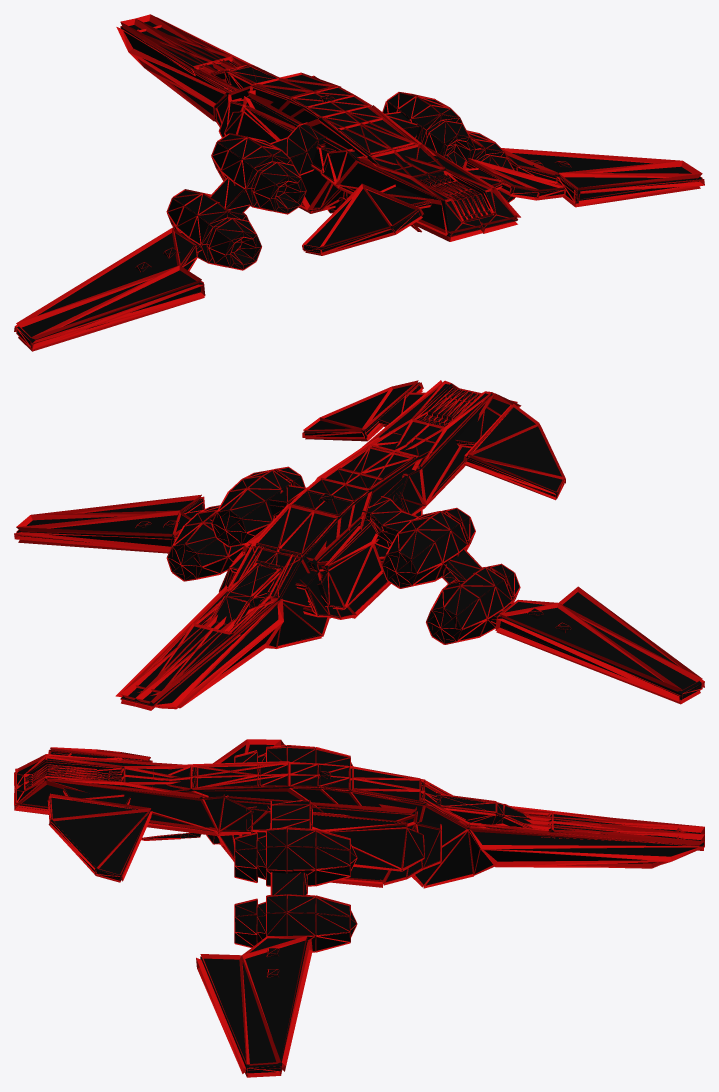
The model's file is greyhoundWire.obj.
3 views of the same model, one above another, from view 1: azimuth 30°, elevation 25°; view 2: azimuth 150°, elevation 25°; view 3: azimuth 270°, elevation 25° (orthographic).
Visible parts, largest first — view 1: Z-5000_Greyhound_Z-5000_Greyhound_Material.069, Z-5000_Greyhound_Z-5000_Greyhound_Glow; view 2: Z-5000_Greyhound_Z-5000_Greyhound_Material.069, Z-5000_Greyhound_Z-5000_Greyhound_Glow; view 3: Z-5000_Greyhound_Z-5000_Greyhound_Material.069, Z-5000_Greyhound_Z-5000_Greyhound_Glow.
Part boxes in pixels (left/top/right/bottom): Z-5000_Greyhound_Z-5000_Greyhound_Material.069: left=17, top=21, right=701, bottom=347; Z-5000_Greyhound_Z-5000_Greyhound_Glow: left=14, top=14, right=704, bottom=351; Z-5000_Greyhound_Z-5000_Greyhound_Material.069: left=17, top=382, right=701, bottom=706; Z-5000_Greyhound_Z-5000_Greyhound_Glow: left=14, top=380, right=704, bottom=710; Z-5000_Greyhound_Z-5000_Greyhound_Material.069: left=14, top=744, right=704, bottom=1073; Z-5000_Greyhound_Z-5000_Greyhound_Glow: left=14, top=739, right=704, bottom=1077.
Size of the model in its own units: 2.79 by 0.5974 by 2.51.
